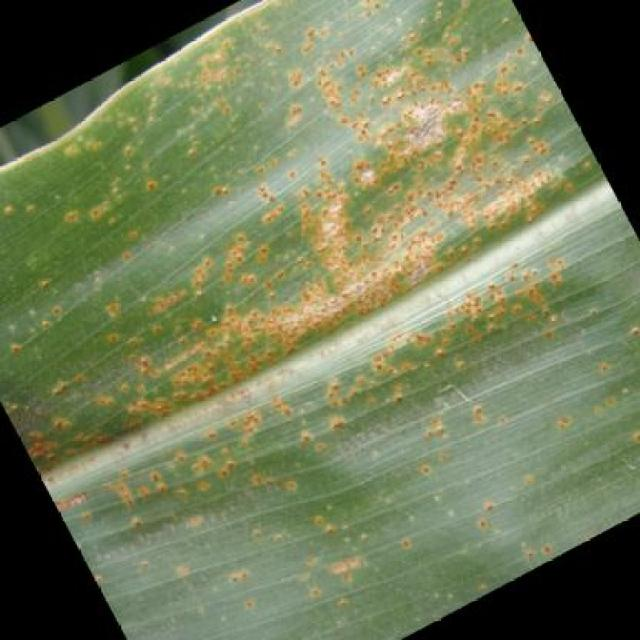Corn_Rust: (97, 90, 559, 552)
